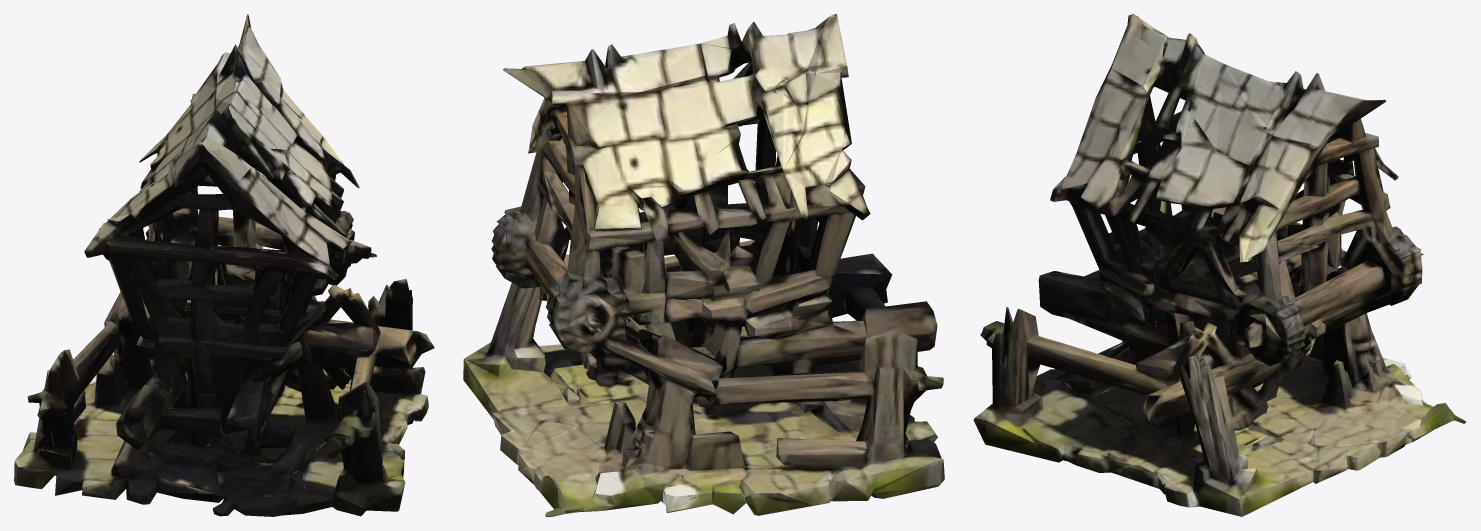
The model's file is orc_catapult_wreck_01.glb.
3 views of the same model, side by side, from view 1: azimuth 30°, elevation 25°; view 2: azimuth 150°, elevation 25°; view 3: azimuth 270°, elevation 25° (orthographic). The views are drawn at different scales.
Parts seen in each view (by area): view 1: geometry_0; view 2: geometry_0; view 3: geometry_0.
Boxes of the visible parts, <box> form: geometry_0: <box>14,14,434,516</box>; geometry_0: <box>463,14,944,516</box>; geometry_0: <box>973,14,1466,516</box>.
Bounding box in the file's own units: 0.9968 × 0.8162 × 0.9867.
1 material, 1 textured.
